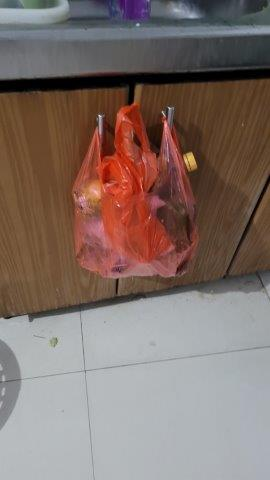plastik: (72, 104, 200, 279)
